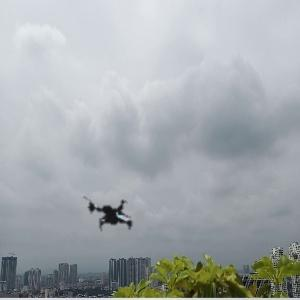drone: (42, 125, 187, 270)
